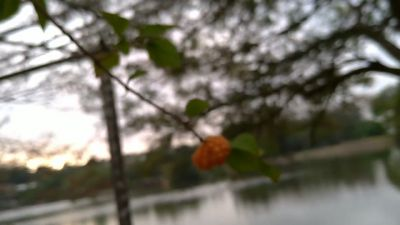eggs: (191, 135, 231, 170)
